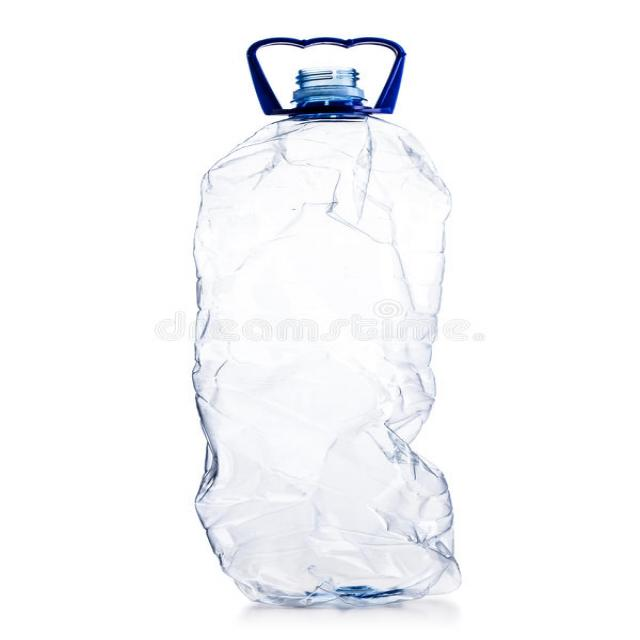Botella Plastica: (181, 39, 456, 603)
